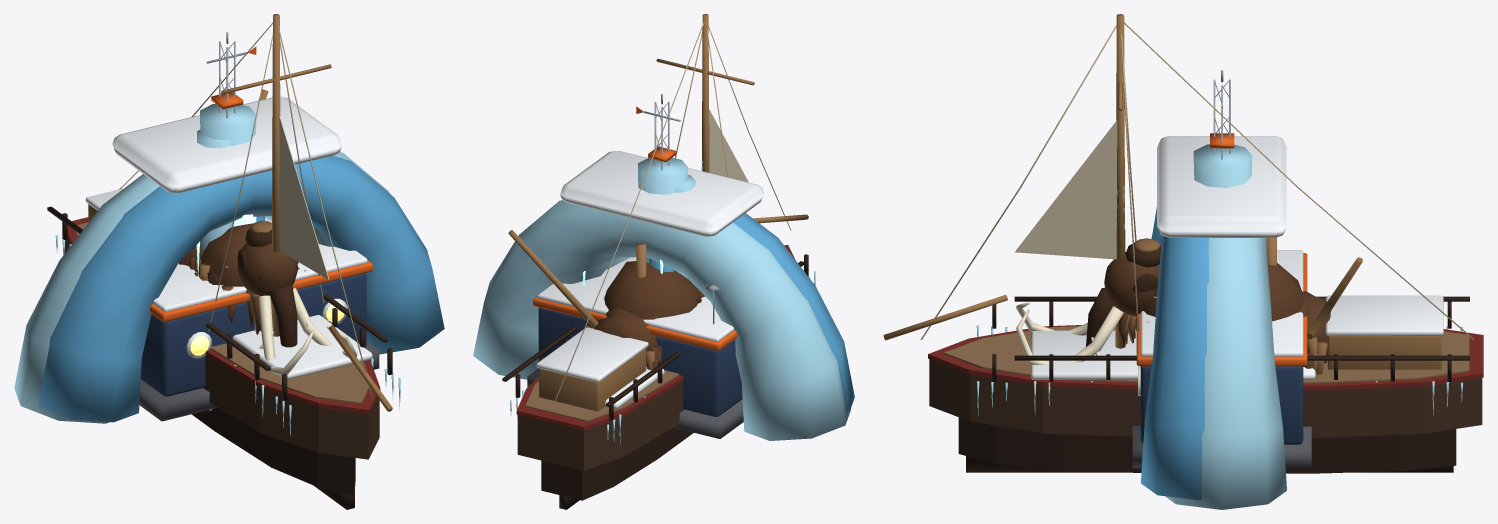
The model's file is frostwild.glb.
3 views of the same model, side by side, from view 1: azimuth 30°, elevation 25°; view 2: azimuth 150°, elevation 25°; view 3: azimuth 270°, elevation 25° (orthographic). The views are drawn at different scales.
Parts seen in each view (by area): view 1: fp_icearch, fp_valiant, fp_station_hut, fp_mammoth_full, fp_icecolumn, fp_mast; view 2: fp_icearch, fp_valiant, fp_station_hut, fp_mammoth, fp_icecolumn, fp_mammoth_full, fp_mast; view 3: fp_valiant, fp_icearch, fp_mammoth_full, fp_station_hut, fp_icecolumn, fp_mammoth, fp_mast.
Boxes of the visible parts, left/top/right/bottom form: fp_icearch: left=14, top=96, right=444, bottom=423; fp_valiant: left=47, top=14, right=400, bottom=509; fp_station_hut: left=139, top=218, right=379, bottom=421; fp_mammoth_full: left=179, top=221, right=357, bottom=374; fp_icecolumn: left=197, top=103, right=264, bottom=250; fp_mast: left=206, top=32, right=256, bottom=118; fp_icearch: left=473, top=150, right=854, bottom=440; fp_valiant: left=502, top=14, right=816, bottom=509; fp_station_hut: left=527, top=257, right=743, bottom=438; fp_mammoth: left=604, top=261, right=700, bottom=319; fp_icecolumn: left=638, top=157, right=695, bottom=278; fp_mammoth_full: left=586, top=261, right=704, bottom=370; fp_mast: left=636, top=94, right=680, bottom=170; fp_valiant: left=883, top=14, right=1483, bottom=473; fp_icearch: left=1141, top=136, right=1286, bottom=509; fp_mammoth_full: left=1016, top=238, right=1330, bottom=374; fp_station_hut: left=1132, top=250, right=1311, bottom=468; fp_icecolumn: left=1193, top=144, right=1252, bottom=187; fp_mammoth: left=1091, top=263, right=1304, bottom=355; fp_mast: left=1210, top=70, right=1234, bottom=159.
Bounding box in the file's own units: 12.17 × 12.35 × 14.76.
